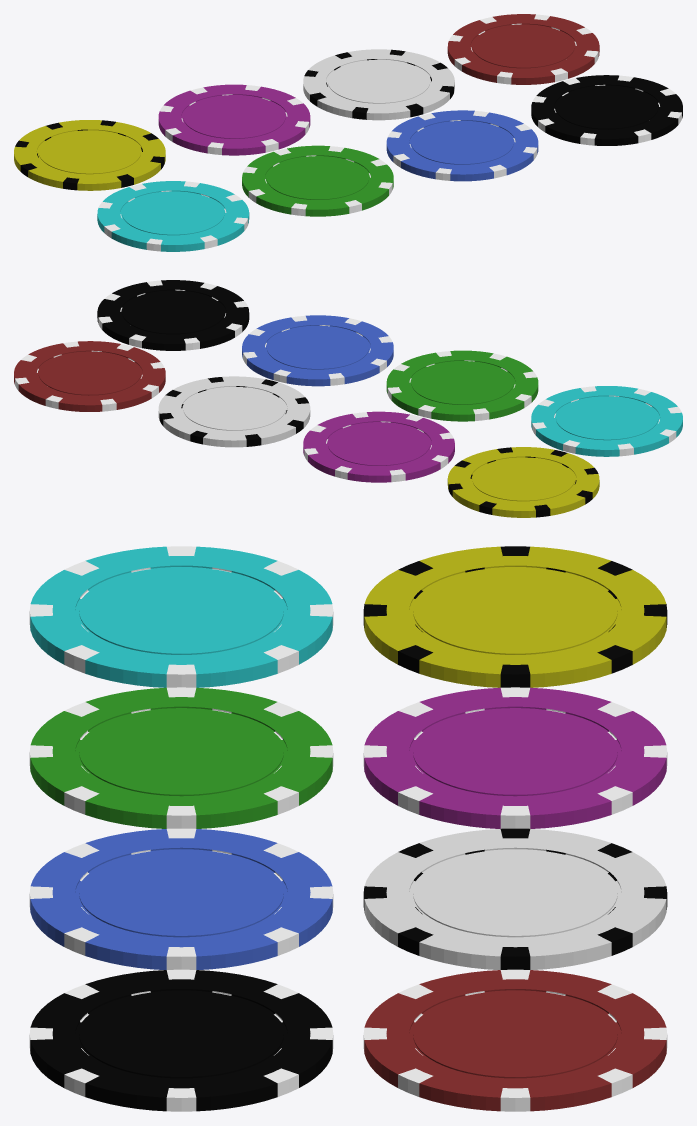
Rendered from MES_Chips.fbx.
3 views of the same model, one above another, from view 1: azimuth 30°, elevation 25°; view 2: azimuth 150°, elevation 25°; view 3: azimuth 270°, elevation 25° (orthographic). The views are drawn at different scales.
Visible parts, largest first — view 1: chip.003, chip.005, chip, chip.006, chip.001, chip.007, chip.002, chip.004; view 2: chip, chip.006, chip.003, chip.005, chip.002, chip.004, chip.001, chip.007; view 3: chip.001, chip.002, chip.004, chip.007, chip.005, chip.006, chip, chip.003.
Part boxes in pixels (x1=…): chip.003: x1=386, y1=110, x2=538, y2=181; chip.005: x1=158, y1=84, x2=310, y2=155; chip: x1=303, y1=49, x2=454, y2=120; chip.006: x1=242, y1=145, x2=393, y2=216; chip.001: x1=447, y1=14, x2=599, y2=84; chip.007: x1=97, y1=181, x2=249, y2=251; chip.002: x1=531, y1=75, x2=682, y2=145; chip.004: x1=14, y1=120, x2=165, y2=190; chip: x1=158, y1=376, x2=310, y2=447; chip.006: x1=386, y1=350, x2=538, y2=421; chip.003: x1=242, y1=315, x2=393, y2=386; chip.005: x1=303, y1=411, x2=454, y2=482; chip.002: x1=97, y1=280, x2=249, y2=350; chip.004: x1=447, y1=447, x2=599, y2=517; chip.001: x1=14, y1=341, x2=165, y2=411; chip.007: x1=531, y1=386, x2=682, y2=456; chip.001: x1=363, y1=969, x2=667, y2=1111; chip.002: x1=29, y1=969, x2=333, y2=1111; chip.004: x1=363, y1=546, x2=667, y2=687; chip.007: x1=29, y1=546, x2=333, y2=687; chip.005: x1=363, y1=687, x2=667, y2=828; chip.006: x1=29, y1=687, x2=333, y2=828; chip: x1=363, y1=828, x2=667, y2=969; chip.003: x1=29, y1=828, x2=333, y2=969.
Bounding box in the file's own units: 860 × 10 × 420.
